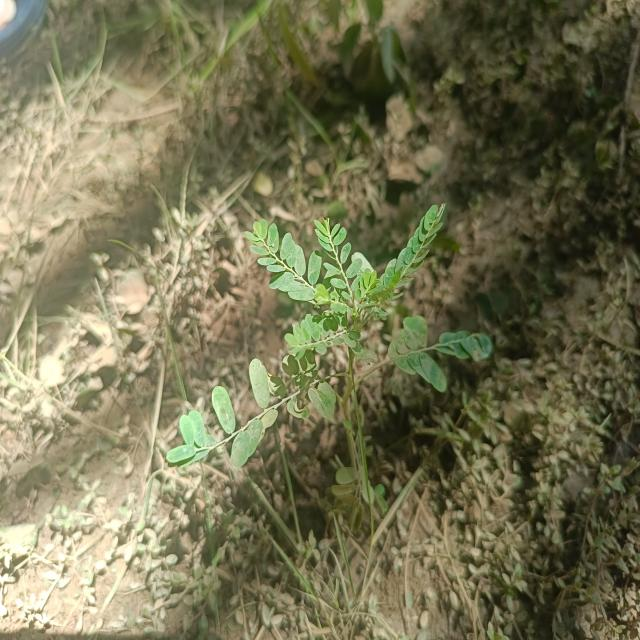weed: (159, 210, 505, 477)
